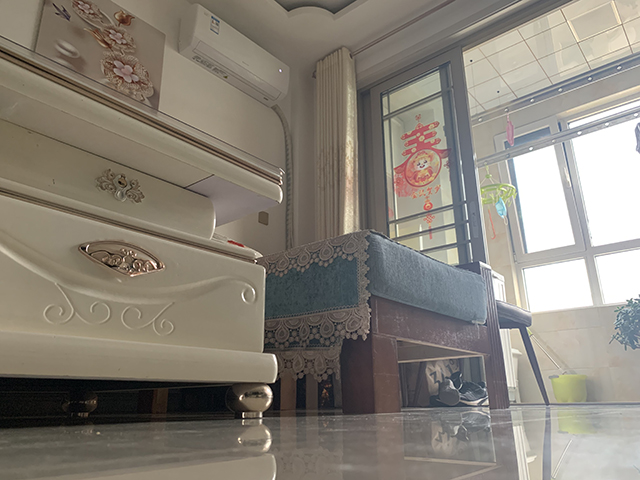curtain: (308, 46, 361, 235)
sofa: (255, 228, 511, 414)
stool: (497, 298, 551, 407)
table: (1, 36, 286, 420)
